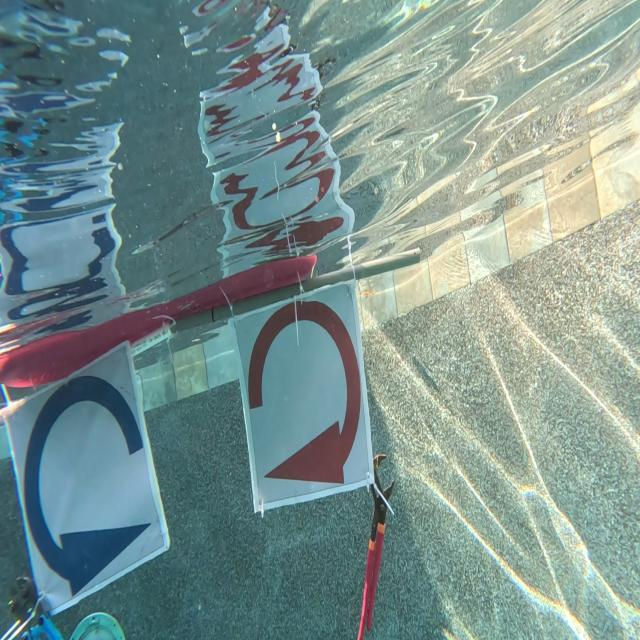blue_side: (1, 337, 178, 618)
red_side: (230, 276, 376, 517)
